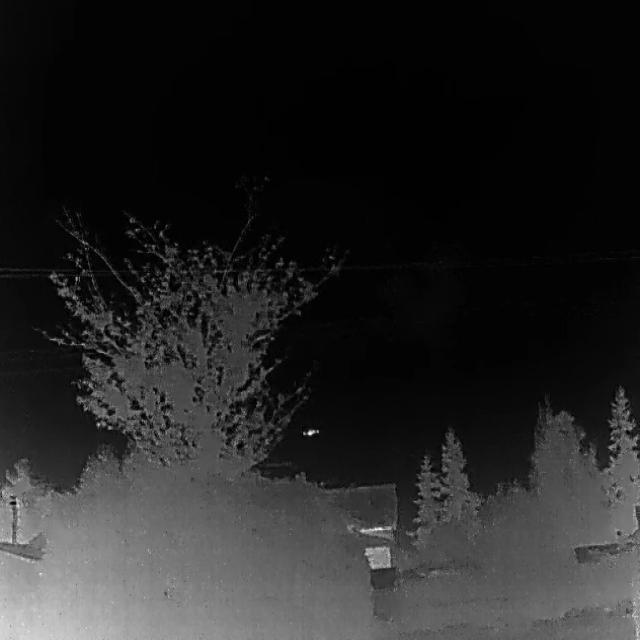drone: (302, 427, 319, 437)
